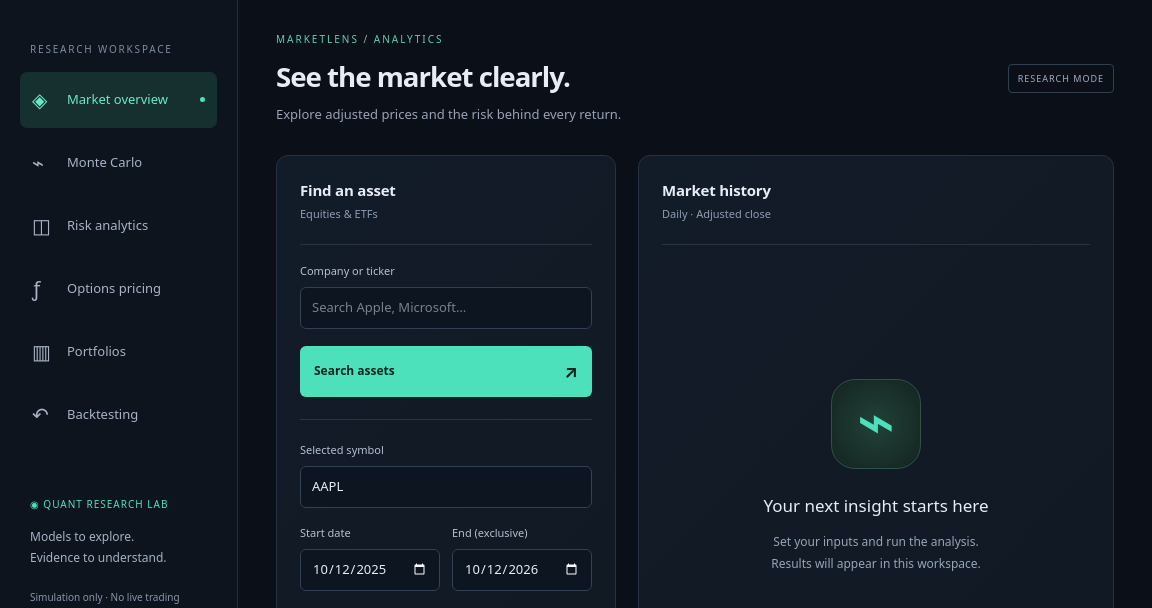
Scenario: rejects malformed CSV before making an analytics request
This screenshot has width=1152, height=608.
Click the button "↶ Backtesting" at (118, 414), box left=20, top=386, right=217, bottom=442
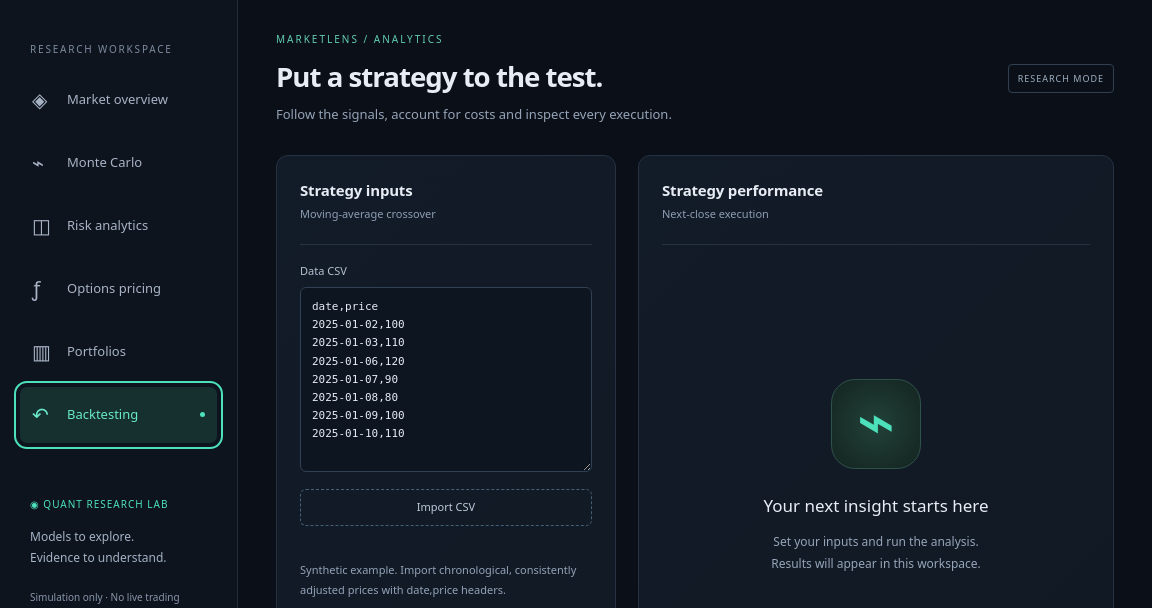
Replace the text in the text box labelled "Data CSV" with "bad input" at (446, 380), box left=300, top=287, right=592, bottom=472
(page scrolled)
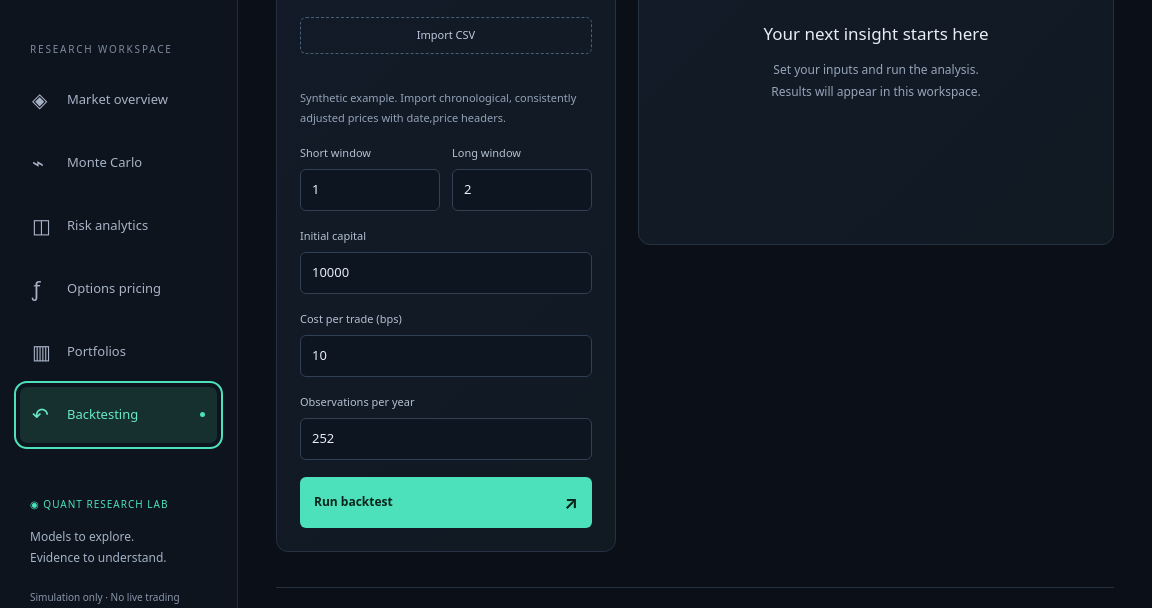
Click the button "Run backtest ↗" at (353, 502), box left=300, top=476, right=592, bottom=528
(page scrolled)
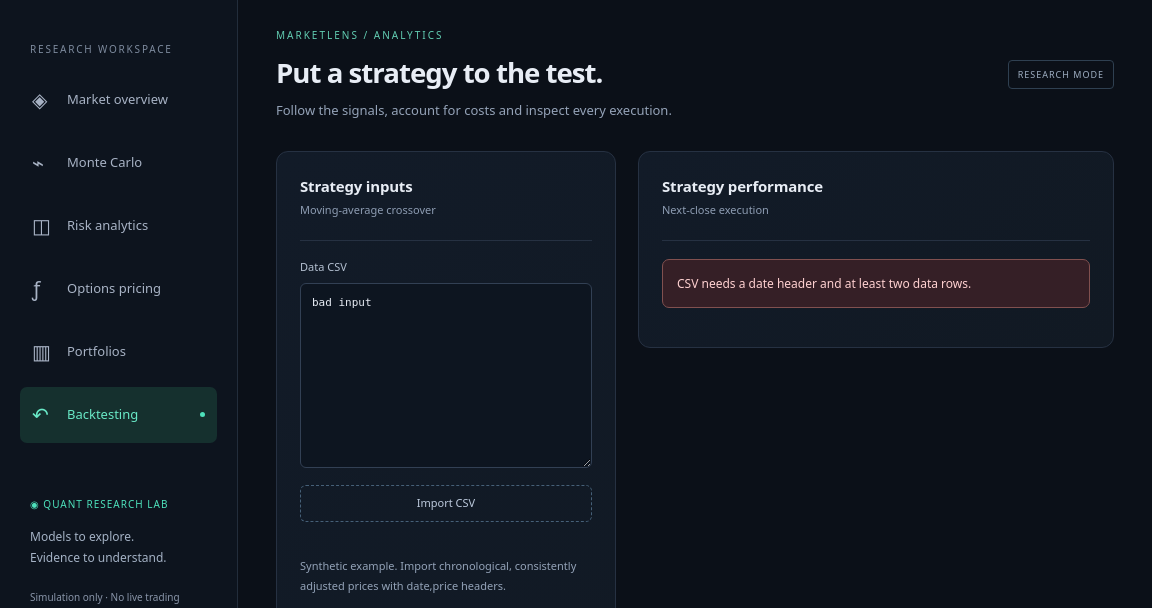
Now the message shows "CSV needs", box left=677, top=275, right=971, bottom=292
